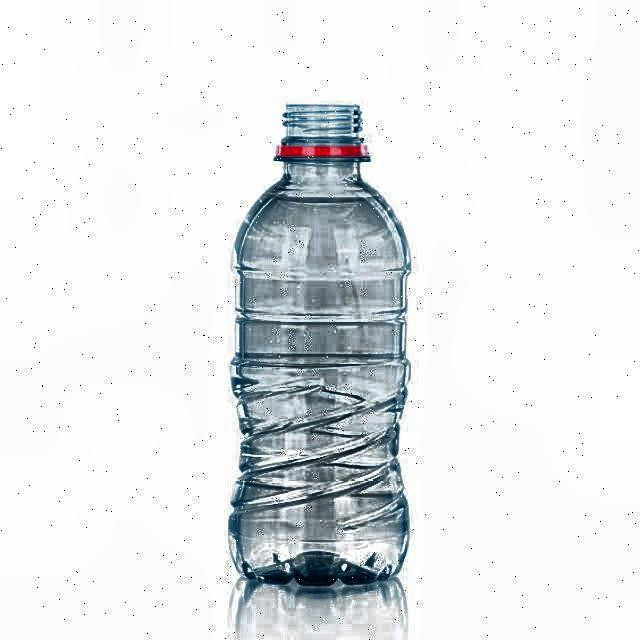plastic: (227, 101, 412, 593)
